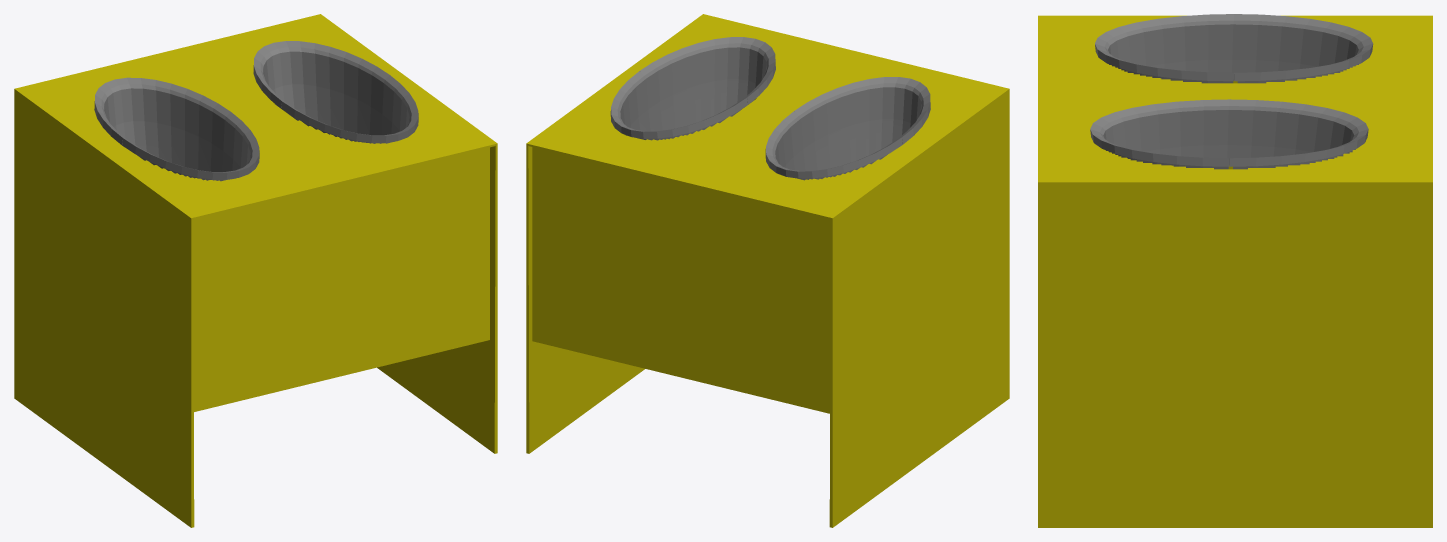
The model's file is catPlate.obj.
3 renders of one model, left to right at view 1: azimuth 30°, elevation 25°; view 2: azimuth 150°, elevation 25°; view 3: azimuth 270°, elevation 25°, orthographic. The views are drawn at different scales.
Visible parts, largest first — view 1: Plane.001; view 2: Plane.001; view 3: Plane.001.
Boxes of the visible parts, x1,y1,x2,y2 form: Plane.001: [14, 14, 497, 527]; Plane.001: [526, 14, 1009, 527]; Plane.001: [1038, 14, 1432, 527].
Bounding box in the file's own units: 0.5 × 0.5 × 0.5.
